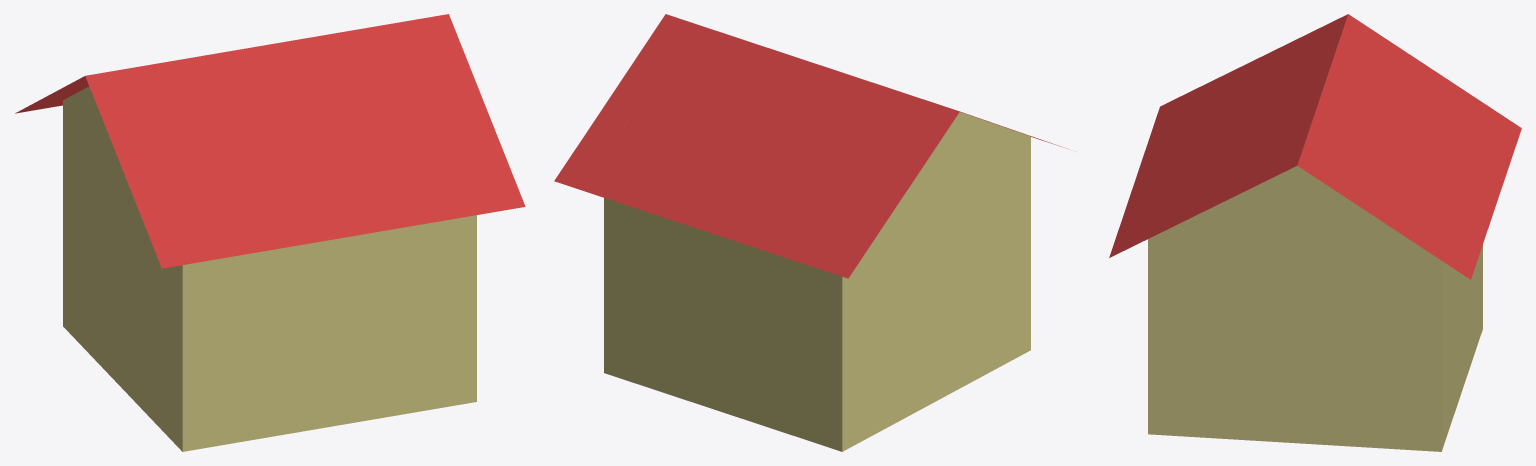
3 renders of one model, left to right at view 1: azimuth 30°, elevation 25°; view 2: azimuth 150°, elevation 25°; view 3: azimuth 270°, elevation 25°, orthographic. The views are drawn at different scales.
Bounding box in the file's own units: 11.89 × 11.96 × 9.34.
